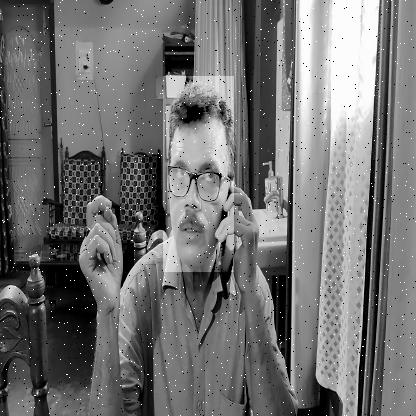Normal: (163, 76, 234, 272)
